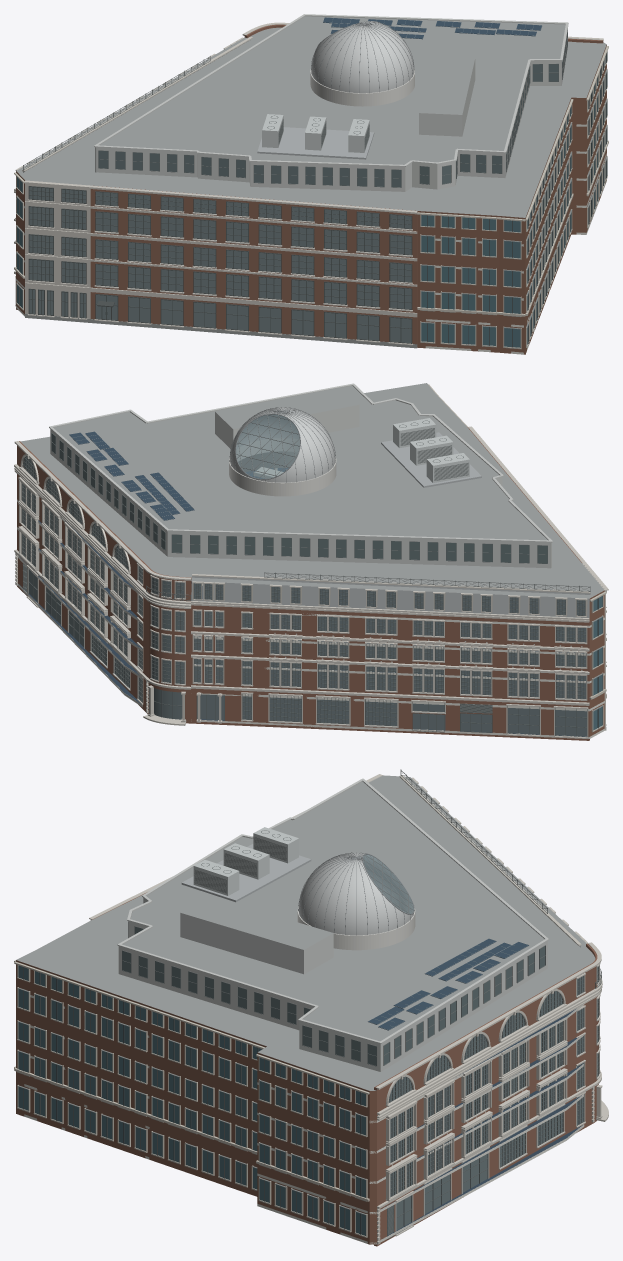
File: lrb-exterior-0c59d4b4faf3.glb
3 renders of one model, top to bottom at view 1: azimuth 30°, elevation 25°; view 2: azimuth 150°, elevation 25°; view 3: azimuth 270°, elevation 25°, orthographic. The views are drawn at different scales.
Parts seen in each view (by area): view 1: LRB.001; view 2: LRB.001; view 3: LRB.001.
Part boxes in pixels (x1=…): LRB.001: x1=14, y1=14, x2=608, y2=354; LRB.001: x1=14, y1=383, x2=608, y2=740; LRB.001: x1=14, y1=769, x2=608, y2=1246.
Bounding box in the file's own units: 89.68 × 33.13 × 70.98.
